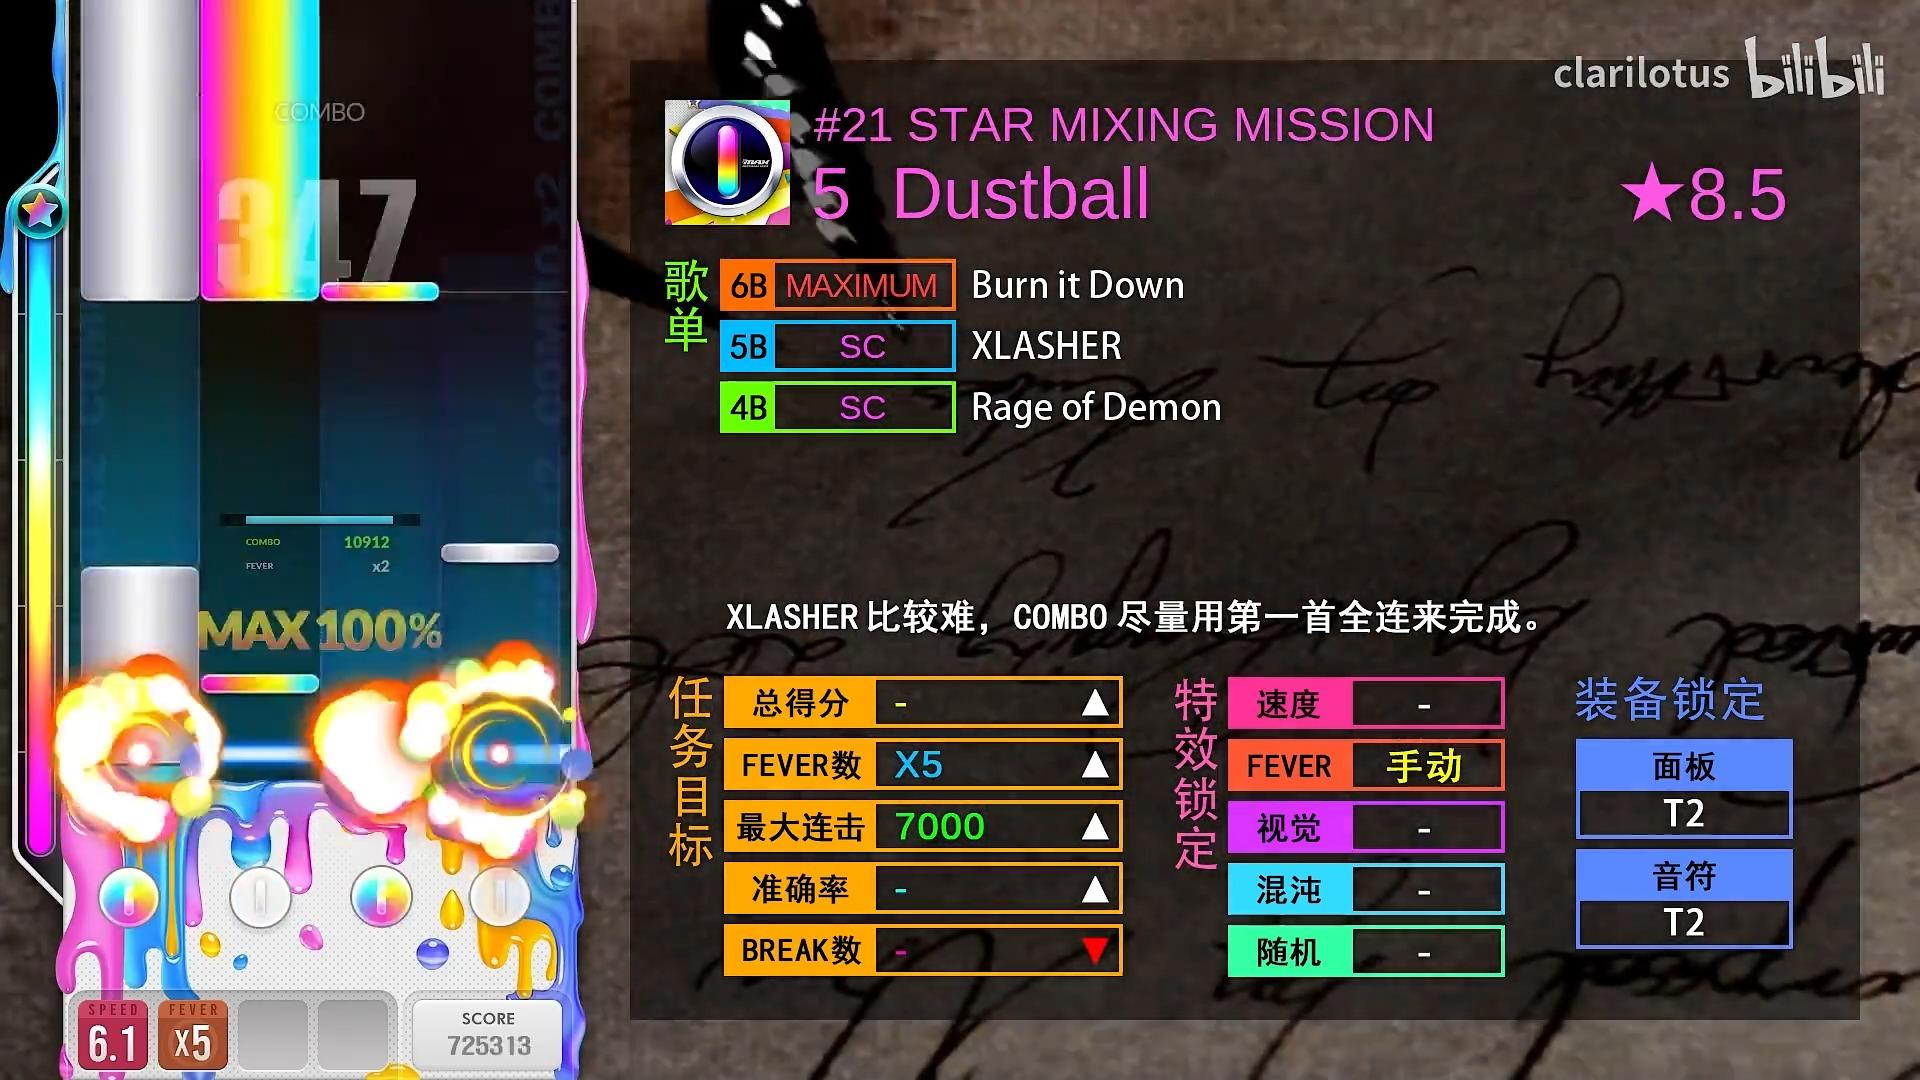hold-end: (80, 566, 199, 584)
hold-start: (199, 281, 319, 301), (80, 281, 199, 301)
note: (200, 674, 319, 694), (322, 282, 439, 302), (442, 543, 559, 563)
